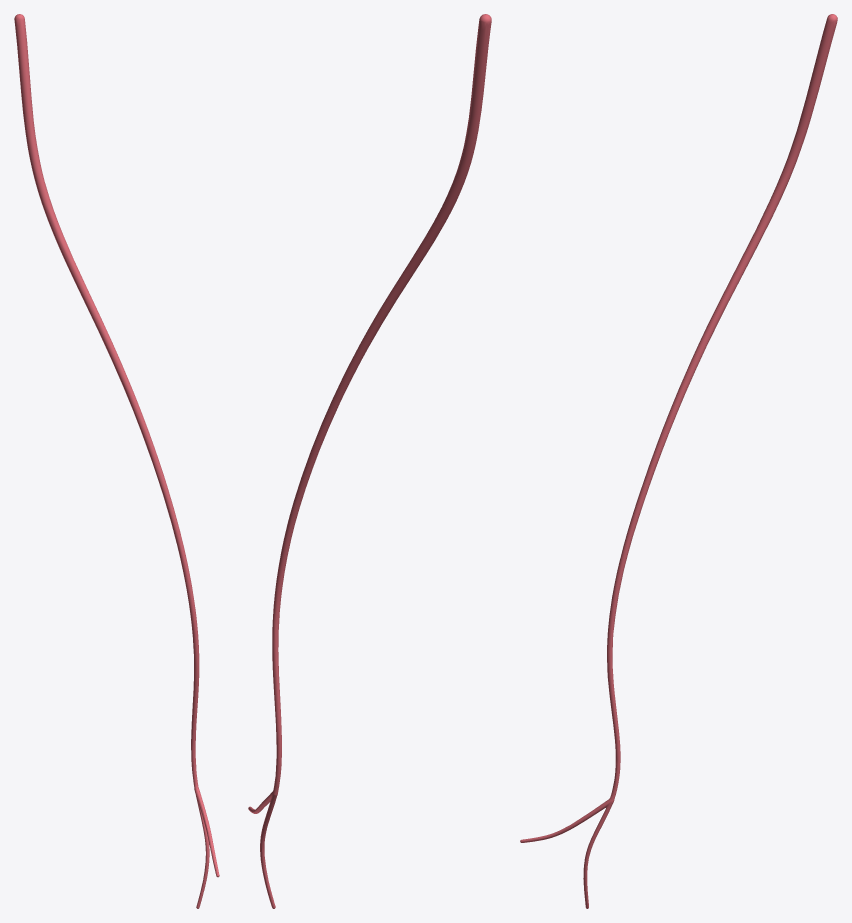
File: fma22676_fj1976.glb
3 views of the same model, side by side, from view 1: azimuth 30°, elevation 25°; view 2: azimuth 210°, elevation 25°; view 3: azimuth 270°, elevation 25° (orthographic). The views are drawn at different scales.
Parts seen in each view (by area): view 1: FMA22676_FJ1976; view 2: FMA22676_FJ1976; view 3: FMA22676_FJ1976.
Boxes of the visible parts, left/top/right/bottom form: FMA22676_FJ1976: left=14, top=14, right=219, bottom=908; FMA22676_FJ1976: left=248, top=14, right=491, bottom=908; FMA22676_FJ1976: left=520, top=14, right=837, bottom=908.
Size of the model in its own units: 0.022 by 0.213 by 0.0711.
